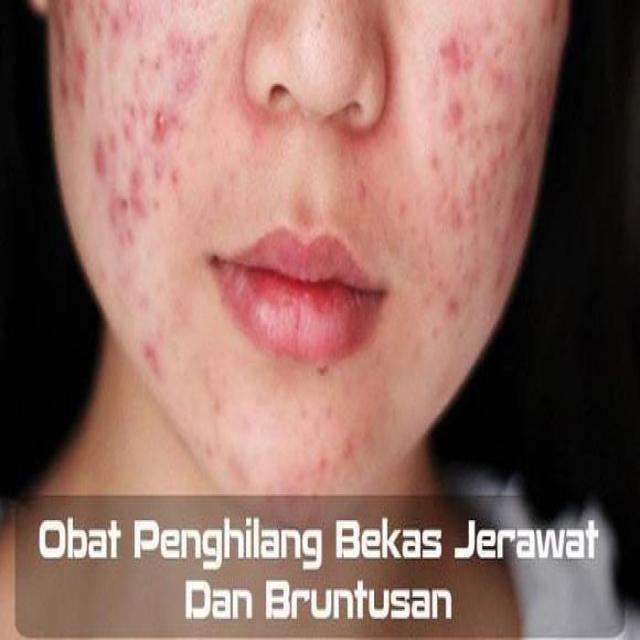acne: (45, 2, 239, 500), (364, 2, 574, 334), (244, 370, 419, 510)
